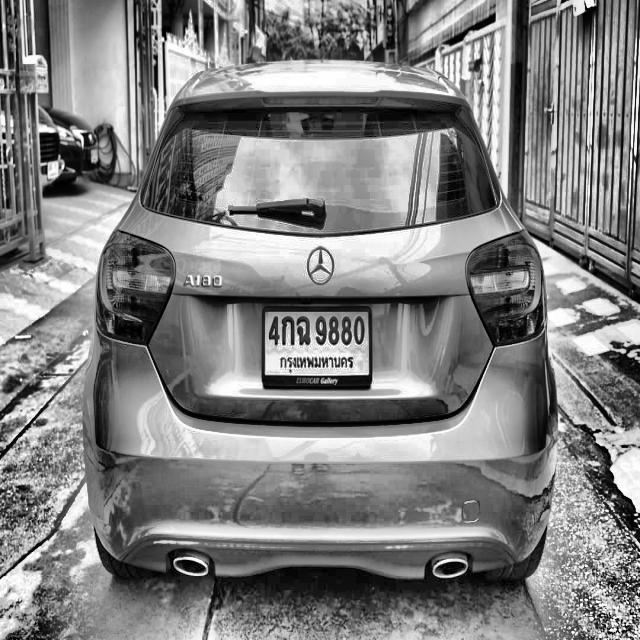license-plate: (261, 300, 375, 392)
